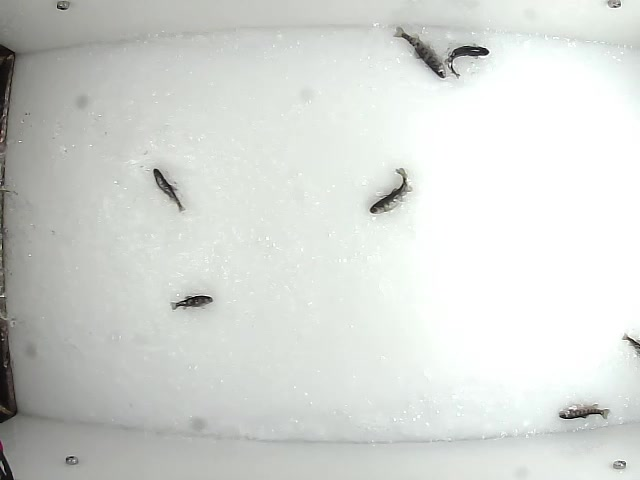fish: (391, 24, 447, 80), (367, 166, 410, 216), (152, 166, 186, 214), (446, 44, 490, 79), (556, 402, 613, 423), (170, 290, 213, 311)
